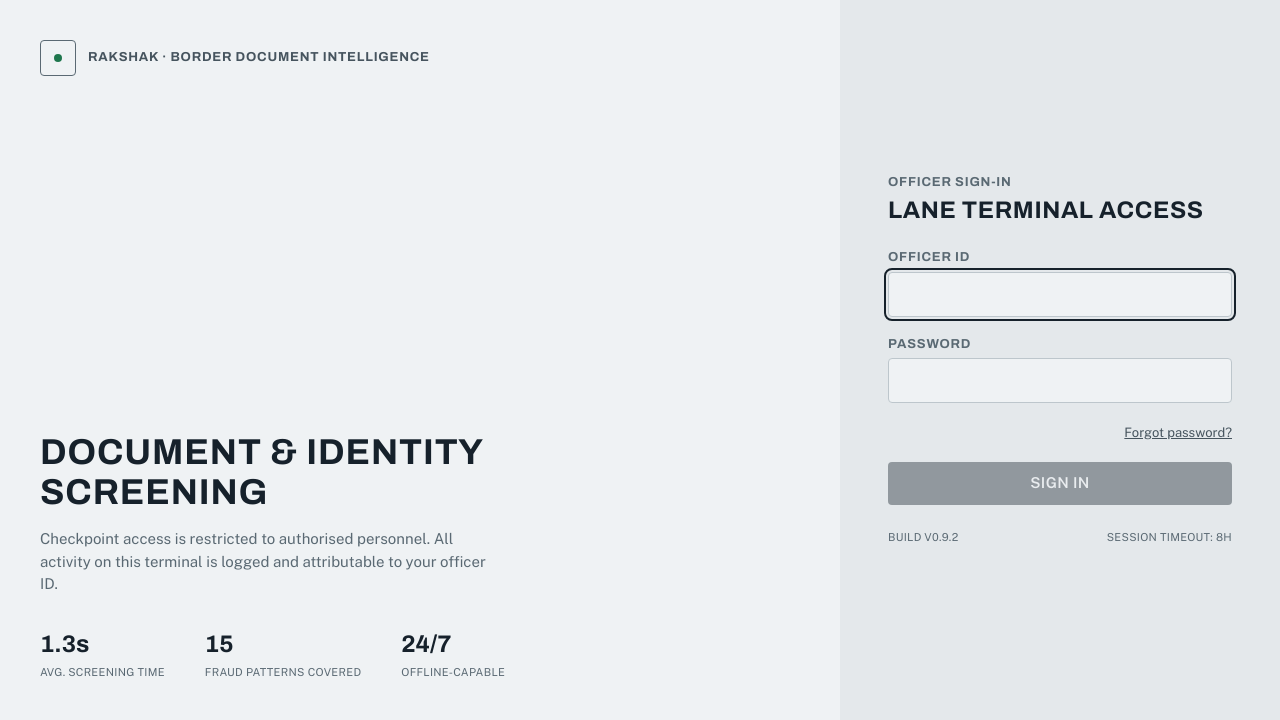
Test: AppShell auth guard › wrong credentials show the error state and do not navigate away from /login
Type "OFF-2291" into the field labelled "Officer ID".
click(1060, 294); type("OFF-2291")  # box [888,272,1232,316]
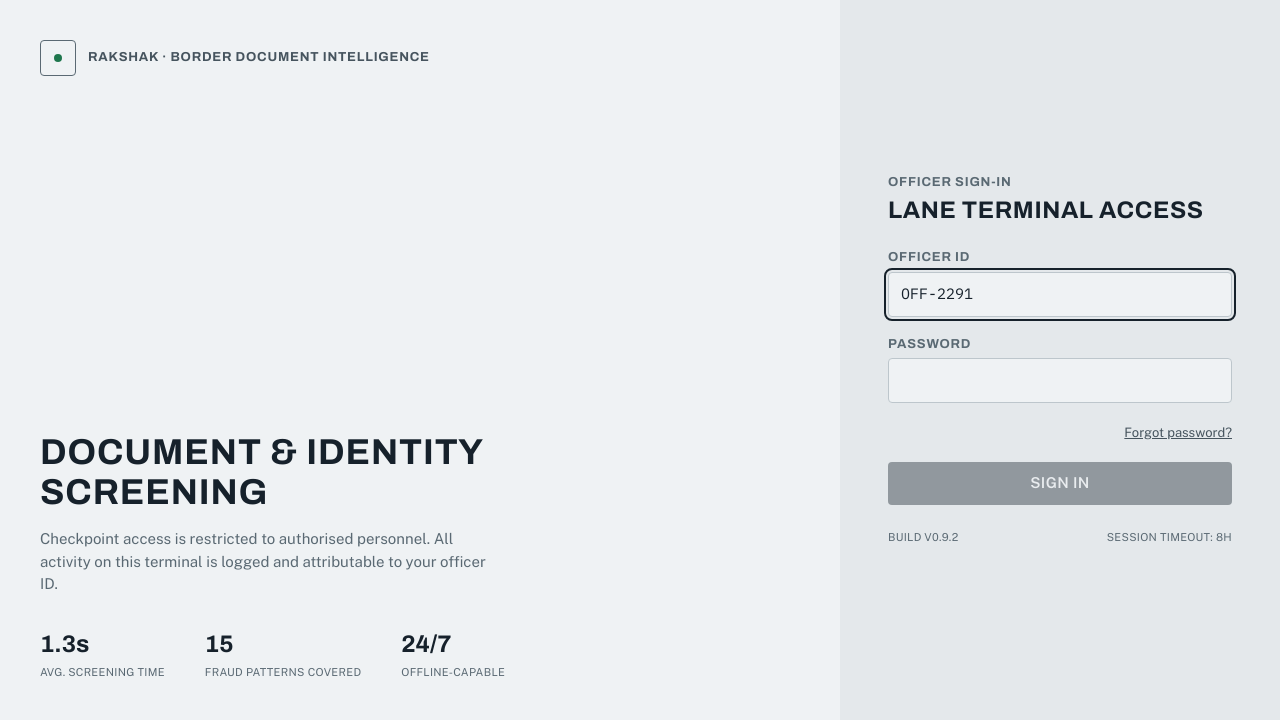
Type "wrong" into the password field labelled "Password".
click(1060, 380); type("wrong")  # box [888,358,1232,403]
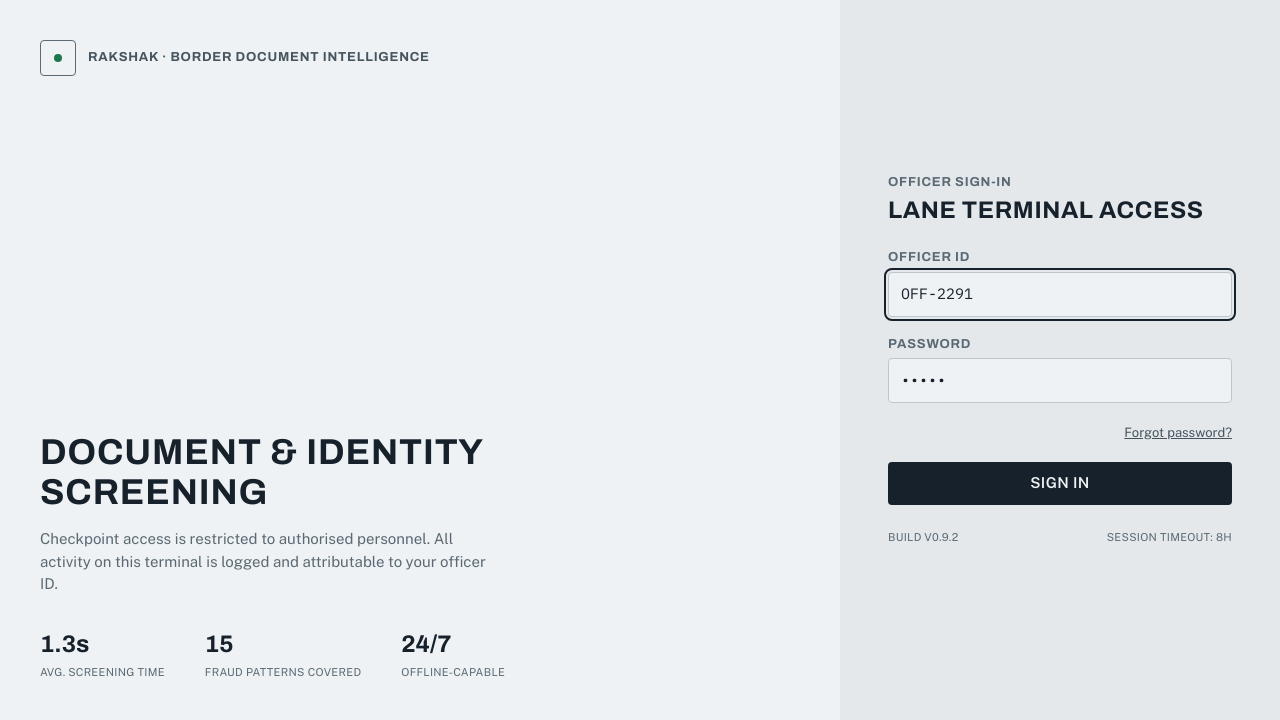
Click the button "Sign in".
click(1060, 483)  # box [888,462,1232,505]
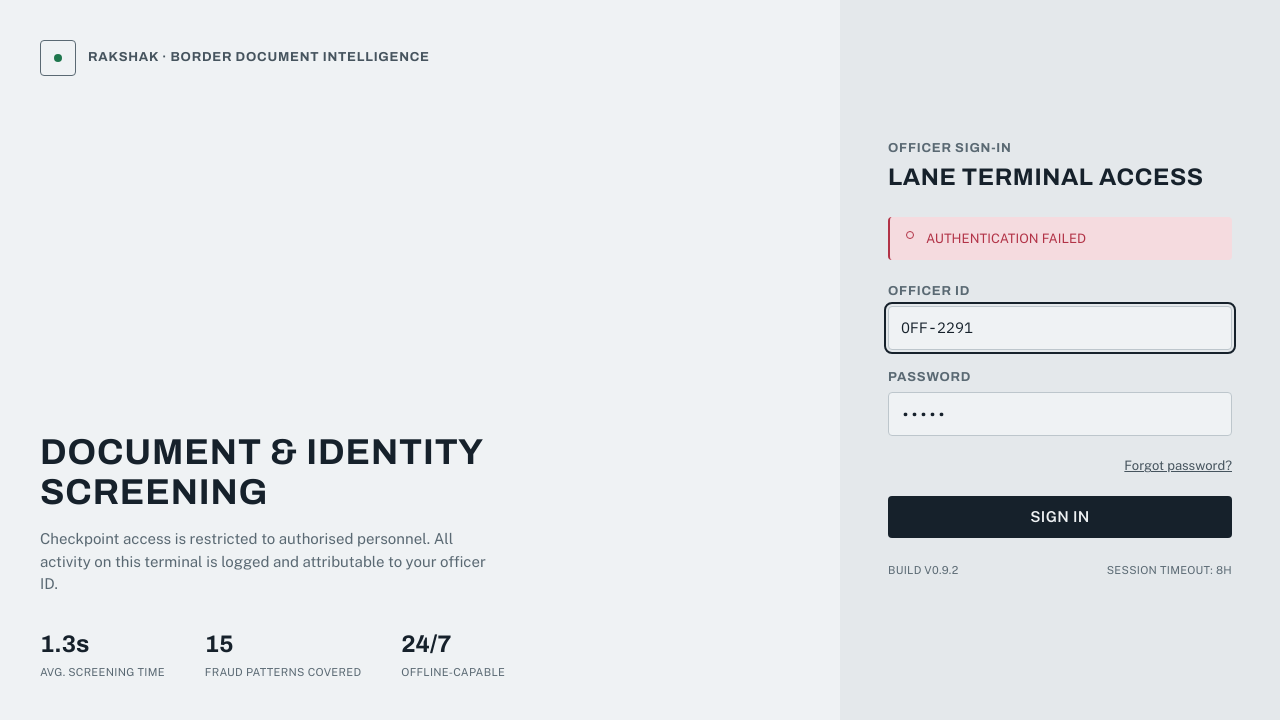
Check: the heading "Lane terminal access" is shown, box [888,161,1232,193]
Check: the message reads "AUTHENTICATION FAILED", box [926,231,1086,246]
